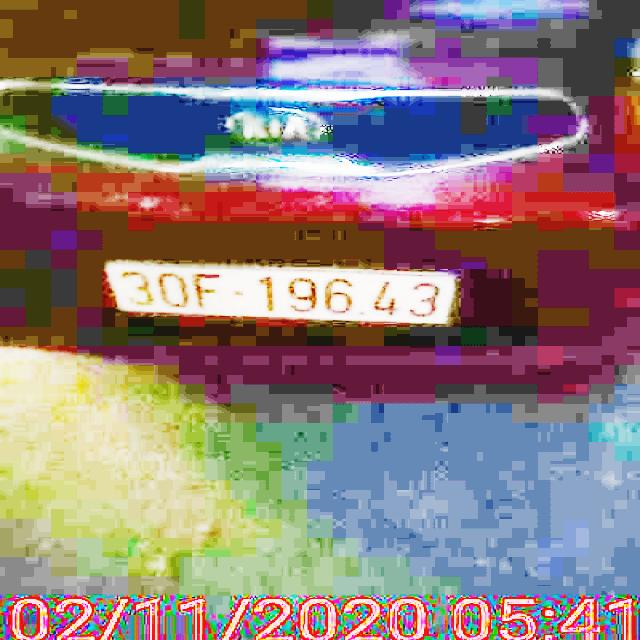license_plate: (111, 267, 449, 324)
